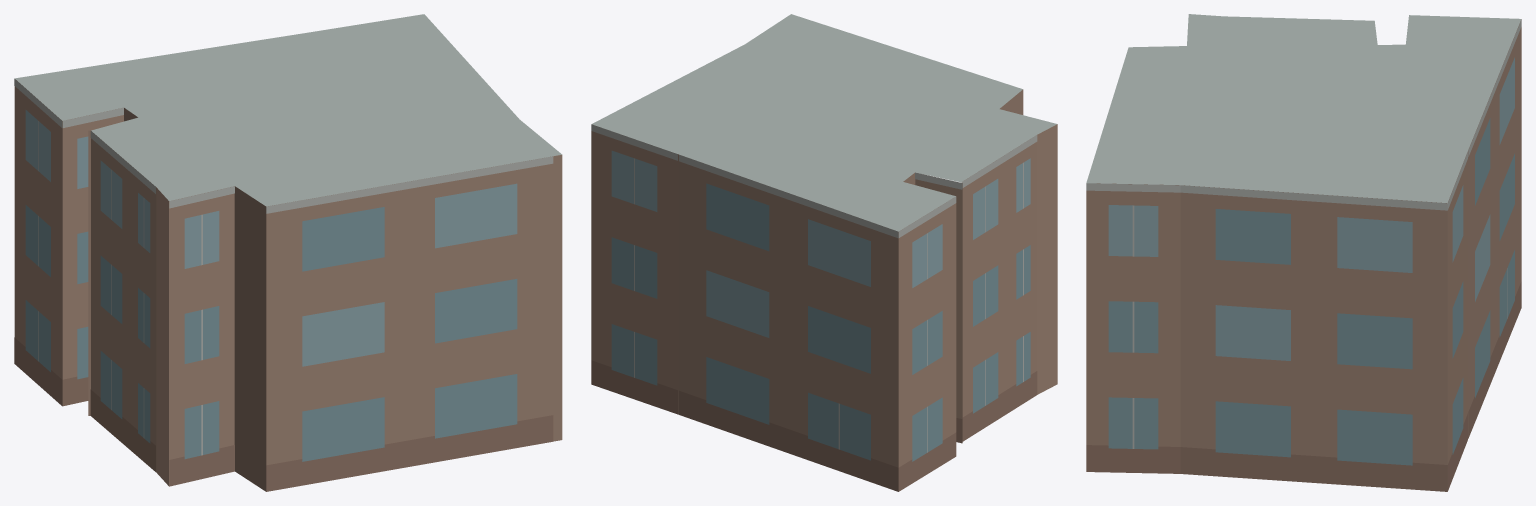
The model's file is survey-upis-32980933.glb.
3 views of the same model, side by side, from view 1: azimuth 30°, elevation 25°; view 2: azimuth 150°, elevation 25°; view 3: azimuth 270°, elevation 25° (orthographic). The views are drawn at different scales.
Parts seen in each view (by area): view 1: survey-upis-32980933.tmp; view 2: survey-upis-32980933.tmp; view 3: survey-upis-32980933.tmp.
Part boxes in pixels (bbox=[...]): survey-upis-32980933.tmp: bbox=[14, 14, 562, 491]; survey-upis-32980933.tmp: bbox=[591, 14, 1057, 491]; survey-upis-32980933.tmp: bbox=[1086, 14, 1521, 491].
Size of the model in its own units: 13.22 by 9.4 by 12.85.
